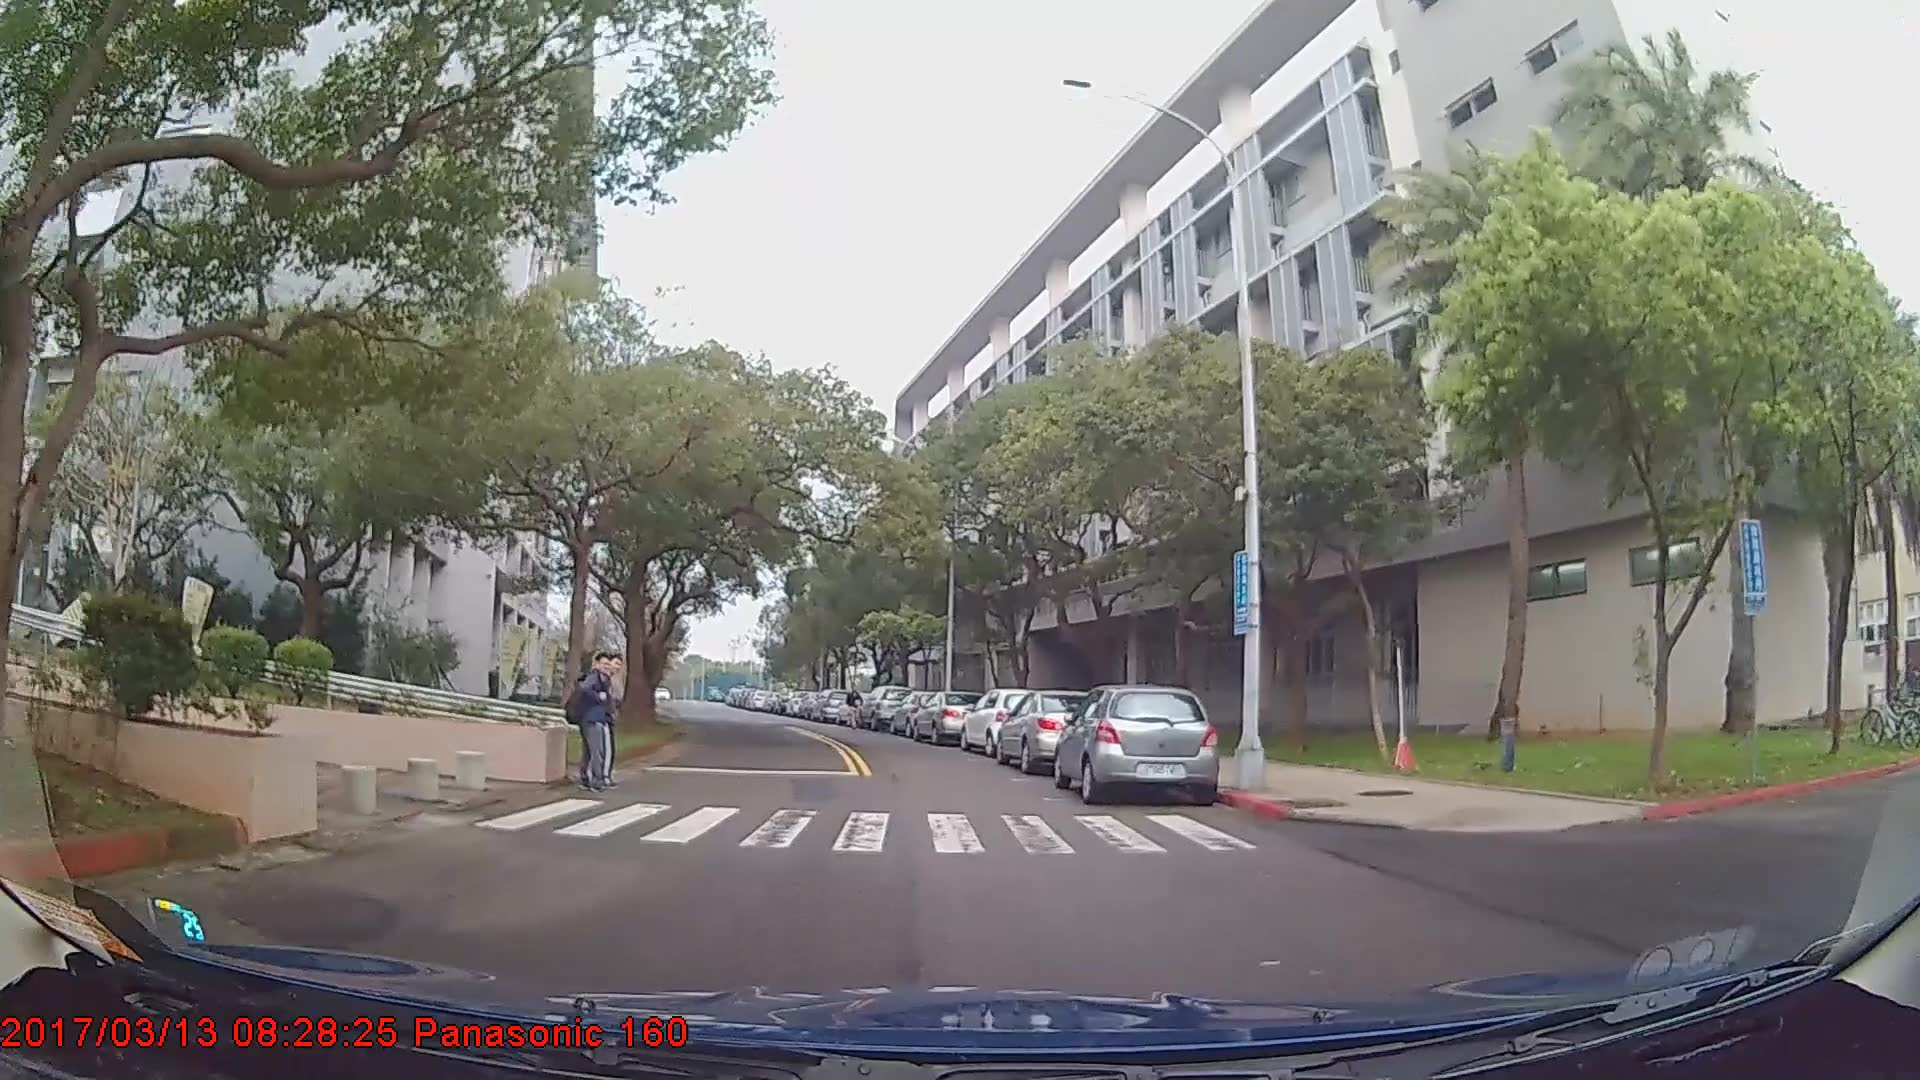pedestrian: (566, 654, 620, 795), (845, 682, 865, 732)
vehicle: (1054, 681, 1219, 802), (993, 688, 1104, 774), (959, 686, 1052, 757), (910, 687, 989, 744), (857, 682, 914, 728), (813, 687, 849, 722)
